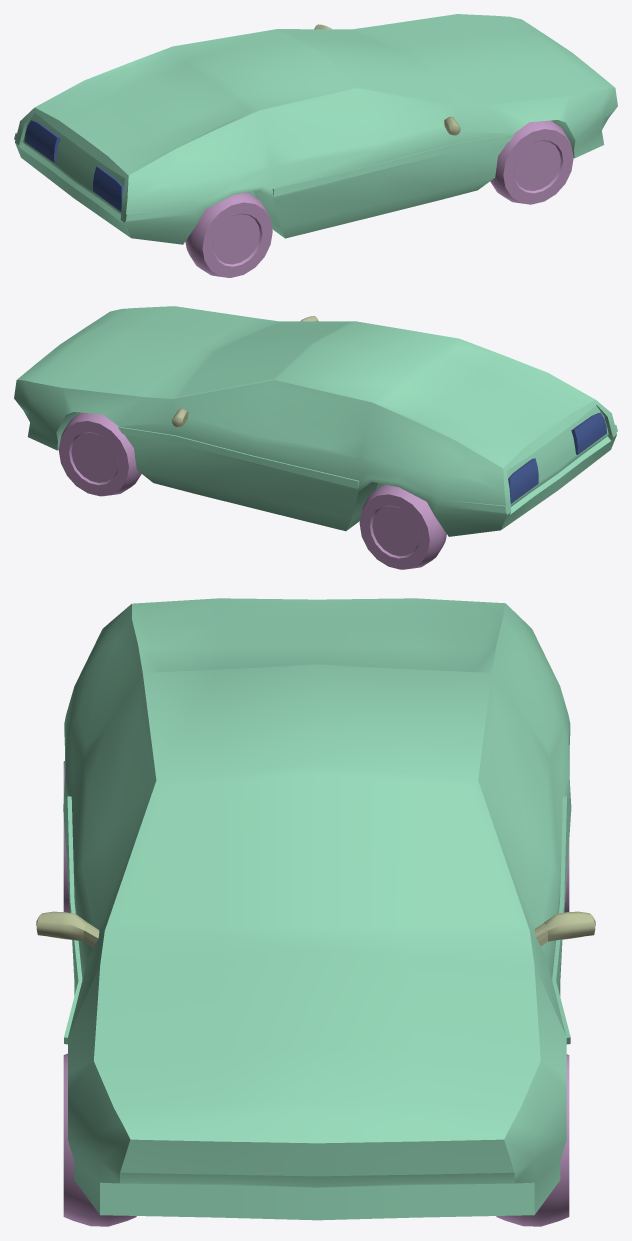
Rendered from car_003.FBX.
3 renders of one model, top to bottom at view 1: azimuth 30°, elevation 25°; view 2: azimuth 150°, elevation 25°; view 3: azimuth 270°, elevation 25°, orthographic. The views are drawn at different scales.
Parts seen in each view (by area): view 1: Car_body, Wheels, Lights; view 2: Car_body, Wheels, Lights; view 3: Car_body, Wheels, Box001.
Part boxes in pixels (<box>): Car_body: <box>14,14,617,244</box>; Wheels: <box>185,120,573,277</box>; Lights: <box>25,120,123,211</box>; Car_body: <box>14,306,617,536</box>; Wheels: <box>58,412,446,569</box>; Lights: <box>508,412,606,503</box>; Car_body: <box>63,598,571,1220</box>; Wheels: <box>63,761,569,1226</box>; Box001: <box>36,911,595,947</box>.
Size of the model in its own units: 424 by 121 by 204.
